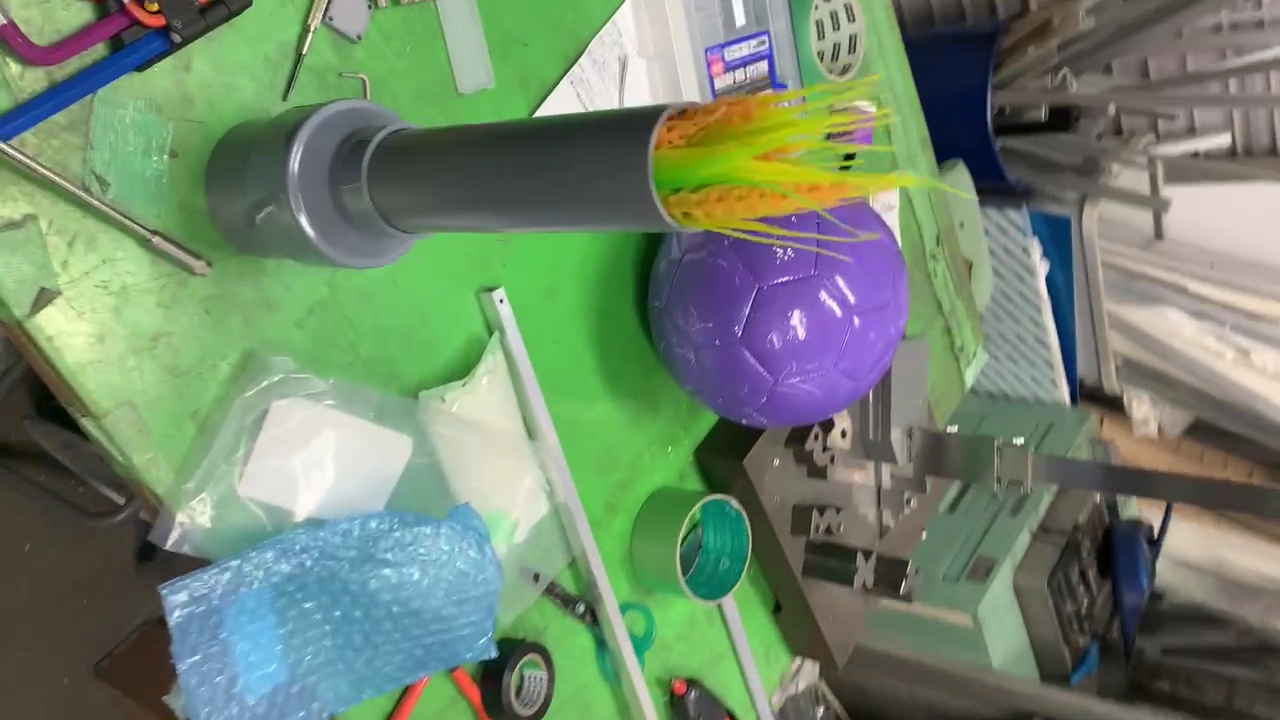purple: (645, 194, 902, 428)
